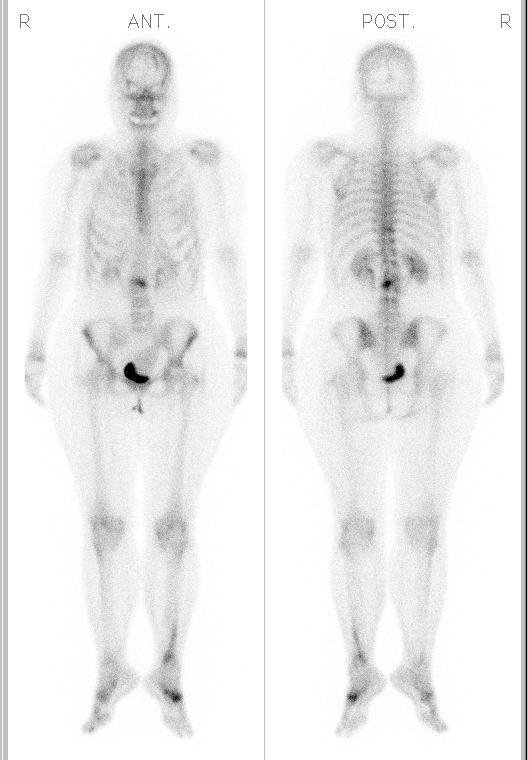person: (9, 1, 521, 760)
